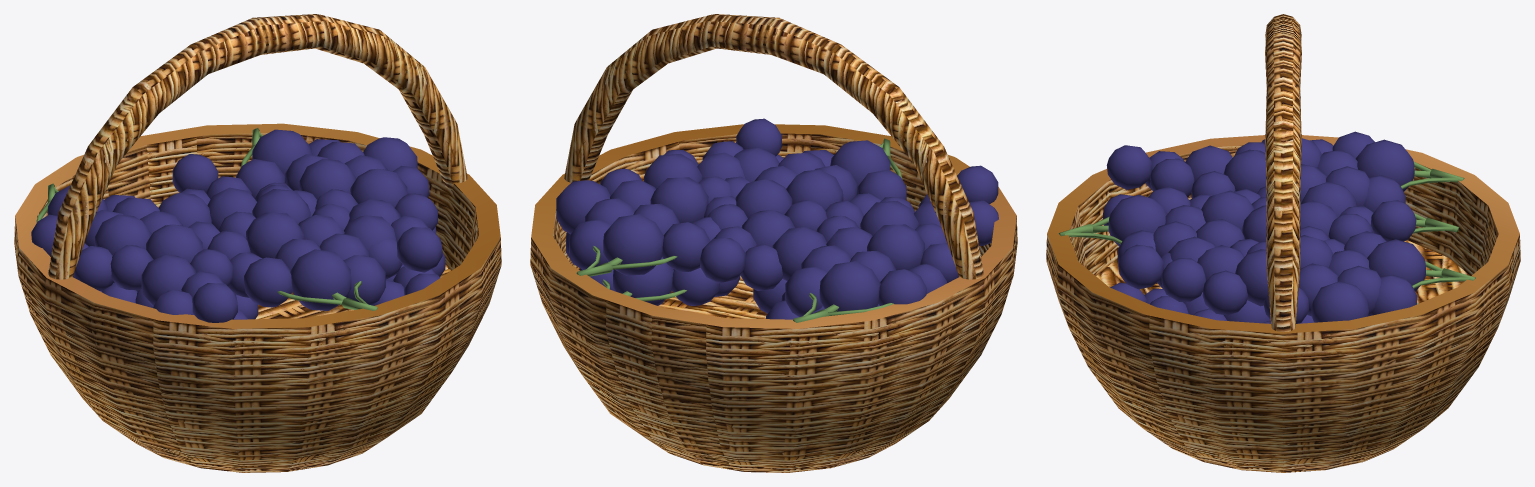
The model's file is SEPET .fbx.
3 views of the same model, side by side, from view 1: azimuth 30°, elevation 25°; view 2: azimuth 150°, elevation 25°; view 3: azimuth 270°, elevation 25° (orthographic). The views are drawn at different scales.
Visible parts, largest first — view 1: Circle, Plane.002, Plane.004, Plane.005, Plane.003, Plane.001; view 2: Circle, Plane.005, Plane.004, Plane.002, Plane.003, Plane.001; view 3: Circle, Plane.005, Plane.004, Plane.002, Plane.003, Plane.001.
Part boxes in pixels (x1,y1,x2,y2): Circle: [14, 14, 501, 472]; Plane.002: [172, 154, 396, 310]; Plane.004: [31, 183, 237, 322]; Plane.005: [236, 128, 442, 279]; Plane.003: [372, 226, 445, 305]; Plane.001: [100, 282, 258, 319]; Circle: [530, 14, 1017, 472]; Plane.005: [556, 118, 781, 276]; Plane.004: [772, 165, 998, 322]; Plane.002: [700, 138, 906, 290]; Plane.003: [566, 154, 783, 305]; Plane.001: [753, 247, 980, 319]; Circle: [1046, 14, 1520, 472]; Plane.005: [1118, 231, 1475, 323]; Plane.004: [1106, 131, 1464, 217]; Plane.002: [1058, 186, 1416, 263]; Plane.003: [1110, 282, 1418, 323]; Plane.001: [1103, 194, 1459, 233].
Bounding box in the file's own units: 476 × 423 × 476.
